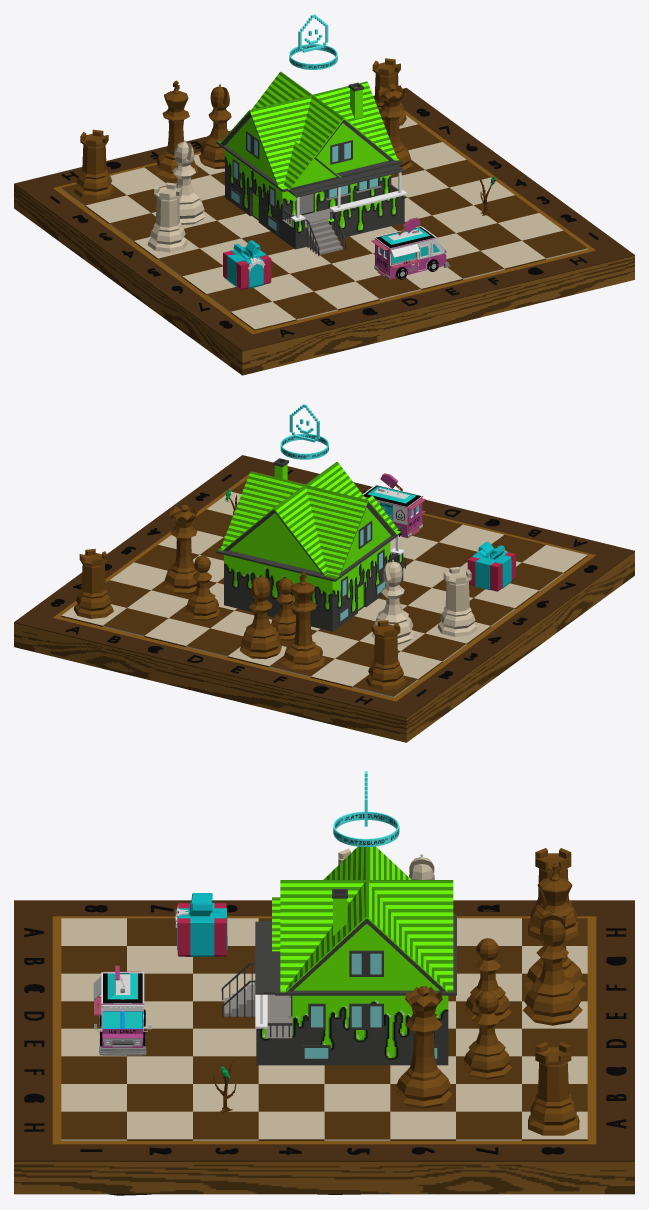
3 views of the same model, one above another, from view 1: azimuth 30°, elevation 25°; view 2: azimuth 150°, elevation 25°; view 3: azimuth 270°, elevation 25° (orthographic). The views are drawn at different scales.
Parts seen in each view (by area): view 1: Cube.002, Cube.754, VEHICLES_ICE_CREAM_TRUCK, OBJRANDOM_GIANT_PRESENT, TYPE_PREMIUM; view 2: Cube.002, Cube.754, VEHICLES_ICE_CREAM_TRUCK, OBJRANDOM_GIANT_PRESENT, TYPE_PREMIUM; view 3: Cube.002, Cube.754, VEHICLES_ICE_CREAM_TRUCK, OBJRANDOM_GIANT_PRESENT, TYPE_PREMIUM.
Boxes of the visible parts, <box> form: Cube.002: <box>14,58,634,375</box>; Cube.754: <box>216,72,407,256</box>; VEHICLES_ICE_CREAM_TRUCK: <box>371,217,450,279</box>; OBJRANDOM_GIANT_PRESENT: <box>223,240,271,290</box>; TYPE_PREMIUM: <box>289,14,337,69</box>; Cube.002: <box>14,455,634,742</box>; Cube.754: <box>216,458,405,631</box>; VEHICLES_ICE_CREAM_TRUCK: <box>362,473,425,538</box>; OBJRANDOM_GIANT_PRESENT: <box>467,541,515,591</box>; TYPE_PREMIUM: <box>280,404,328,459</box>; Cube.002: <box>14,848,634,1194</box>; Cube.754: <box>221,846,456,1065</box>; VEHICLES_ICE_CREAM_TRUCK: <box>93,965,151,1055</box>; OBJRANDOM_GIANT_PRESENT: <box>175,893,227,956</box>; TYPE_PREMIUM: <box>333,771,399,846</box>.
Size of the model in its own units: 3981 by 2151 by 4012.
Materials: 44 (4 with a texture image).
